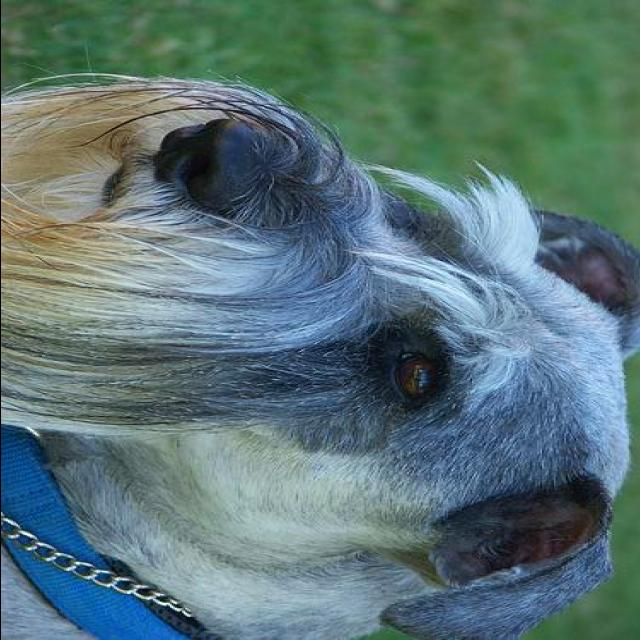standard_schnauzer: (2, 71, 640, 638)
